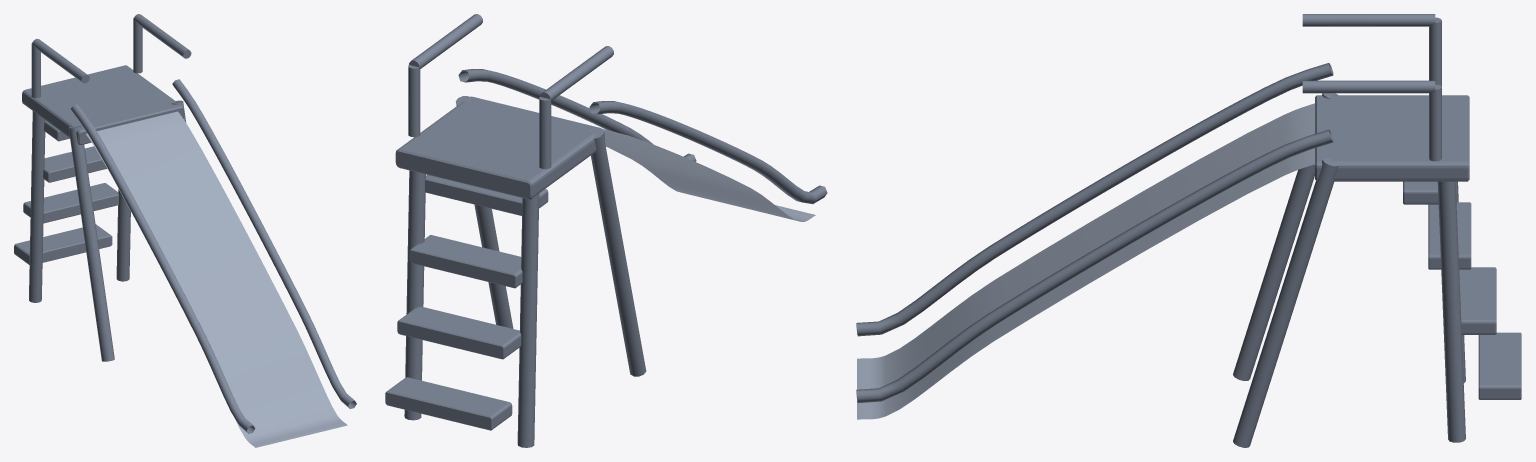
File: 滑梯-lite.glb
The picture shows the model from 3 angles, left to right: view 1: azimuth 30°, elevation 25°; view 2: azimuth 150°, elevation 25°; view 3: azimuth 270°, elevation 25°; orthographic projection. The views are drawn at different scales.
Visible parts, largest first — view 1: soft, body, accent; view 2: body, accent, soft; view 3: body, soft, accent.
Boxes of the visible parts, box(x1,y1,x2,y2) form: soft: box(86, 111, 347, 447); body: box(22, 14, 356, 433); accent: box(14, 120, 118, 264); body: box(395, 14, 827, 447); accent: box(385, 175, 548, 430); soft: box(603, 129, 815, 221); body: box(856, 14, 1469, 447); soft: box(857, 103, 1314, 419); accent: box(1403, 181, 1521, 399).
Bounding box in the file's own units: 0.4875 × 1.12 × 1.85.
